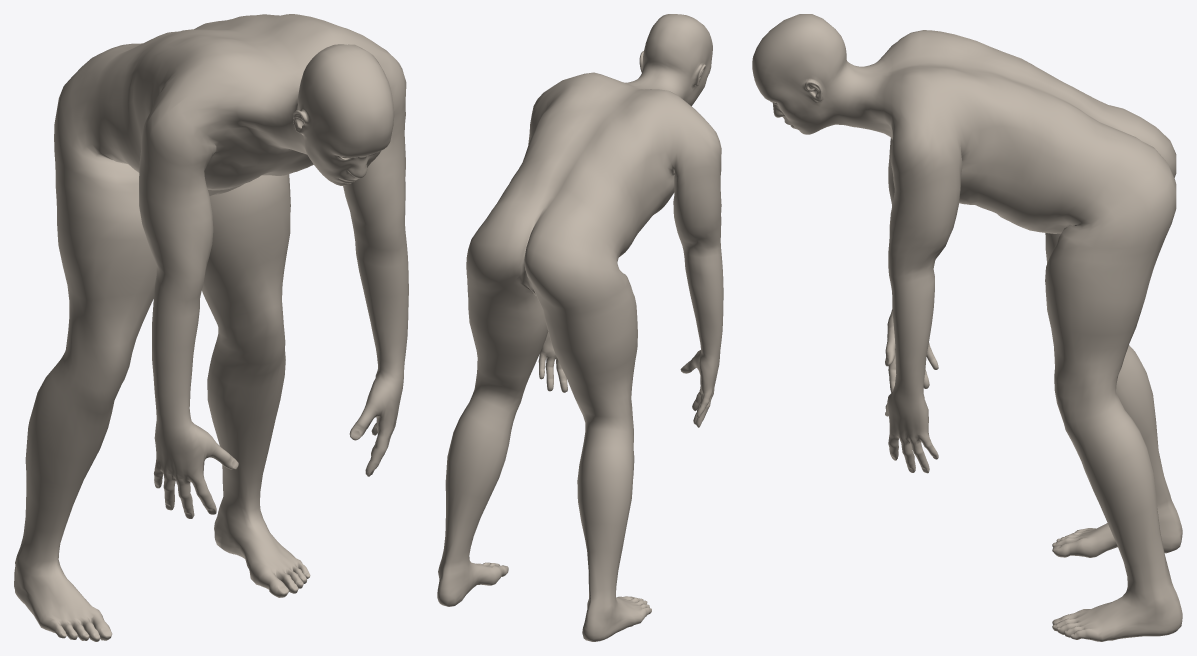
The model's file is sitka_body_stoop.glb.
3 renders of one model, left to right at view 1: azimuth 30°, elevation 25°; view 2: azimuth 150°, elevation 25°; view 3: azimuth 270°, elevation 25°, orthographic. The views are drawn at different scales.
Visible parts, largest first — view 1: body_stoop; view 2: body_stoop; view 3: body_stoop.
Boxes of the visible parts, box(x1,y1,x2,y2) form: body_stoop: box(14, 14, 408, 641); body_stoop: box(437, 14, 723, 641); body_stoop: box(752, 14, 1182, 641).
Bounding box in the file's own units: 0.5386 × 1.37 × 0.9292.
